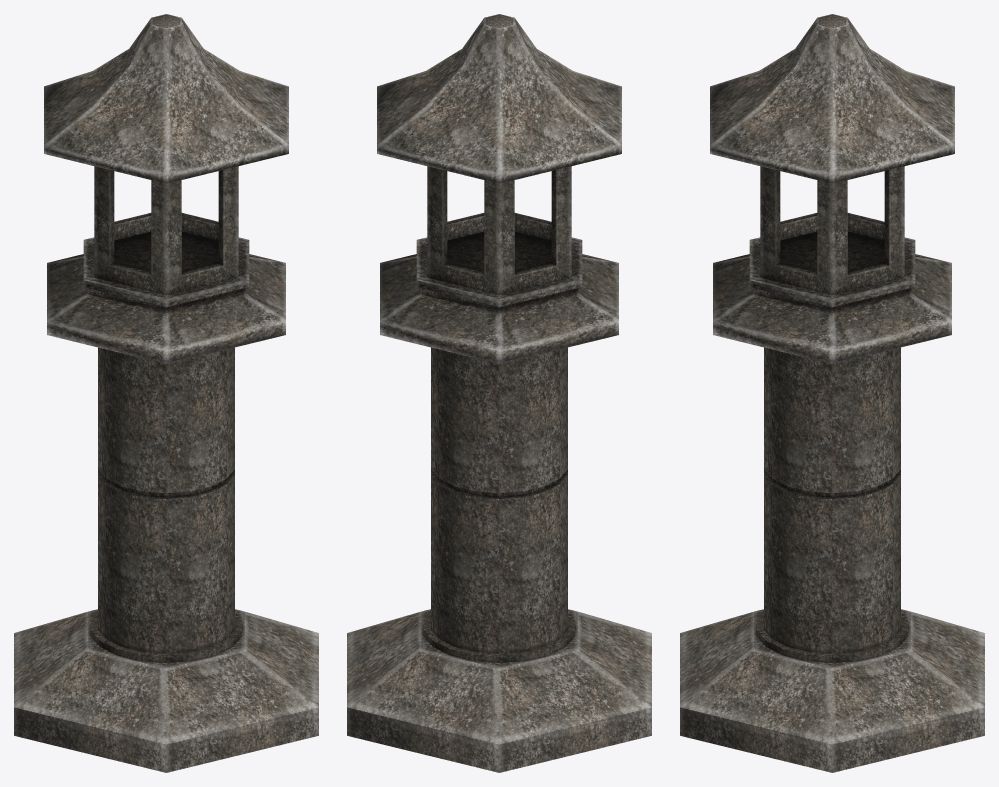
File: lantern.dae
The picture shows the model from 3 angles, left to right: view 1: azimuth 30°, elevation 25°; view 2: azimuth 150°, elevation 25°; view 3: azimuth 270°, elevation 25°; orthographic projection.
Parts seen in each view (by area): view 1: Circle_001; view 2: Circle_001; view 3: Circle_001.
Part boxes in pixels (left/top/right/bottom): Circle_001: left=14, top=14, right=318, bottom=772; Circle_001: left=347, top=14, right=651, bottom=772; Circle_001: left=680, top=14, right=984, bottom=772.
Size of the model in its own units: 2 by 1.73 by 4.25.
